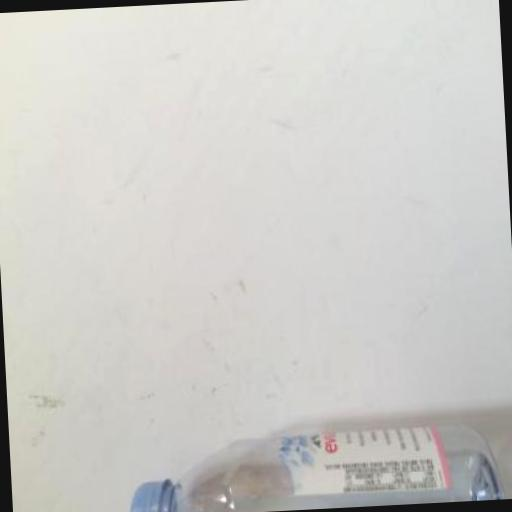plastic: (124, 419, 503, 512), (126, 478, 175, 512)
